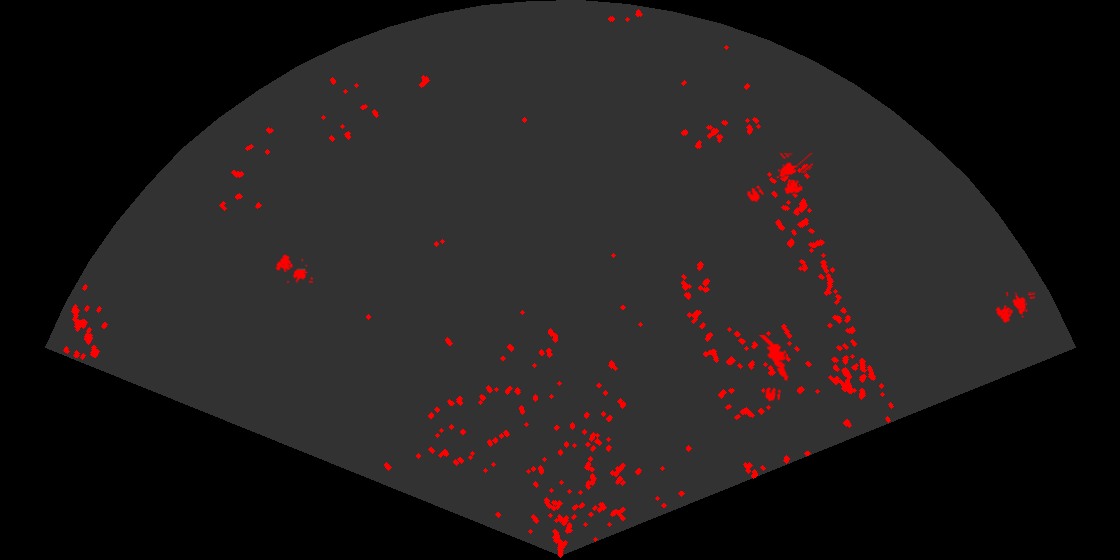ball: (745, 184, 766, 204), (764, 386, 782, 403)
cage: (775, 153, 813, 196), (994, 292, 1035, 324), (274, 253, 313, 283)
frogman: (757, 335, 791, 382)
